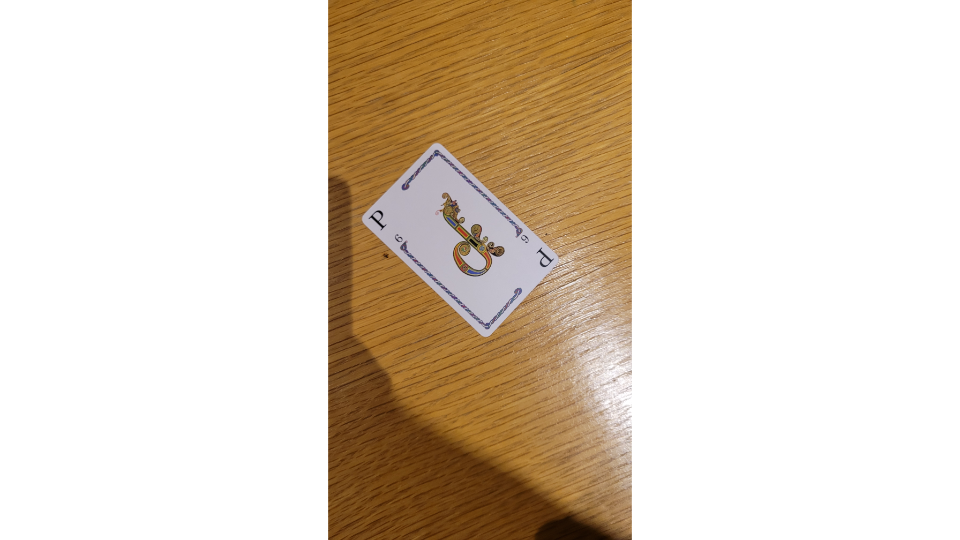P: (360, 141, 564, 339)
